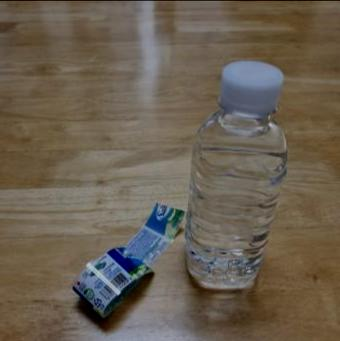bottle: (184, 54, 286, 287)
